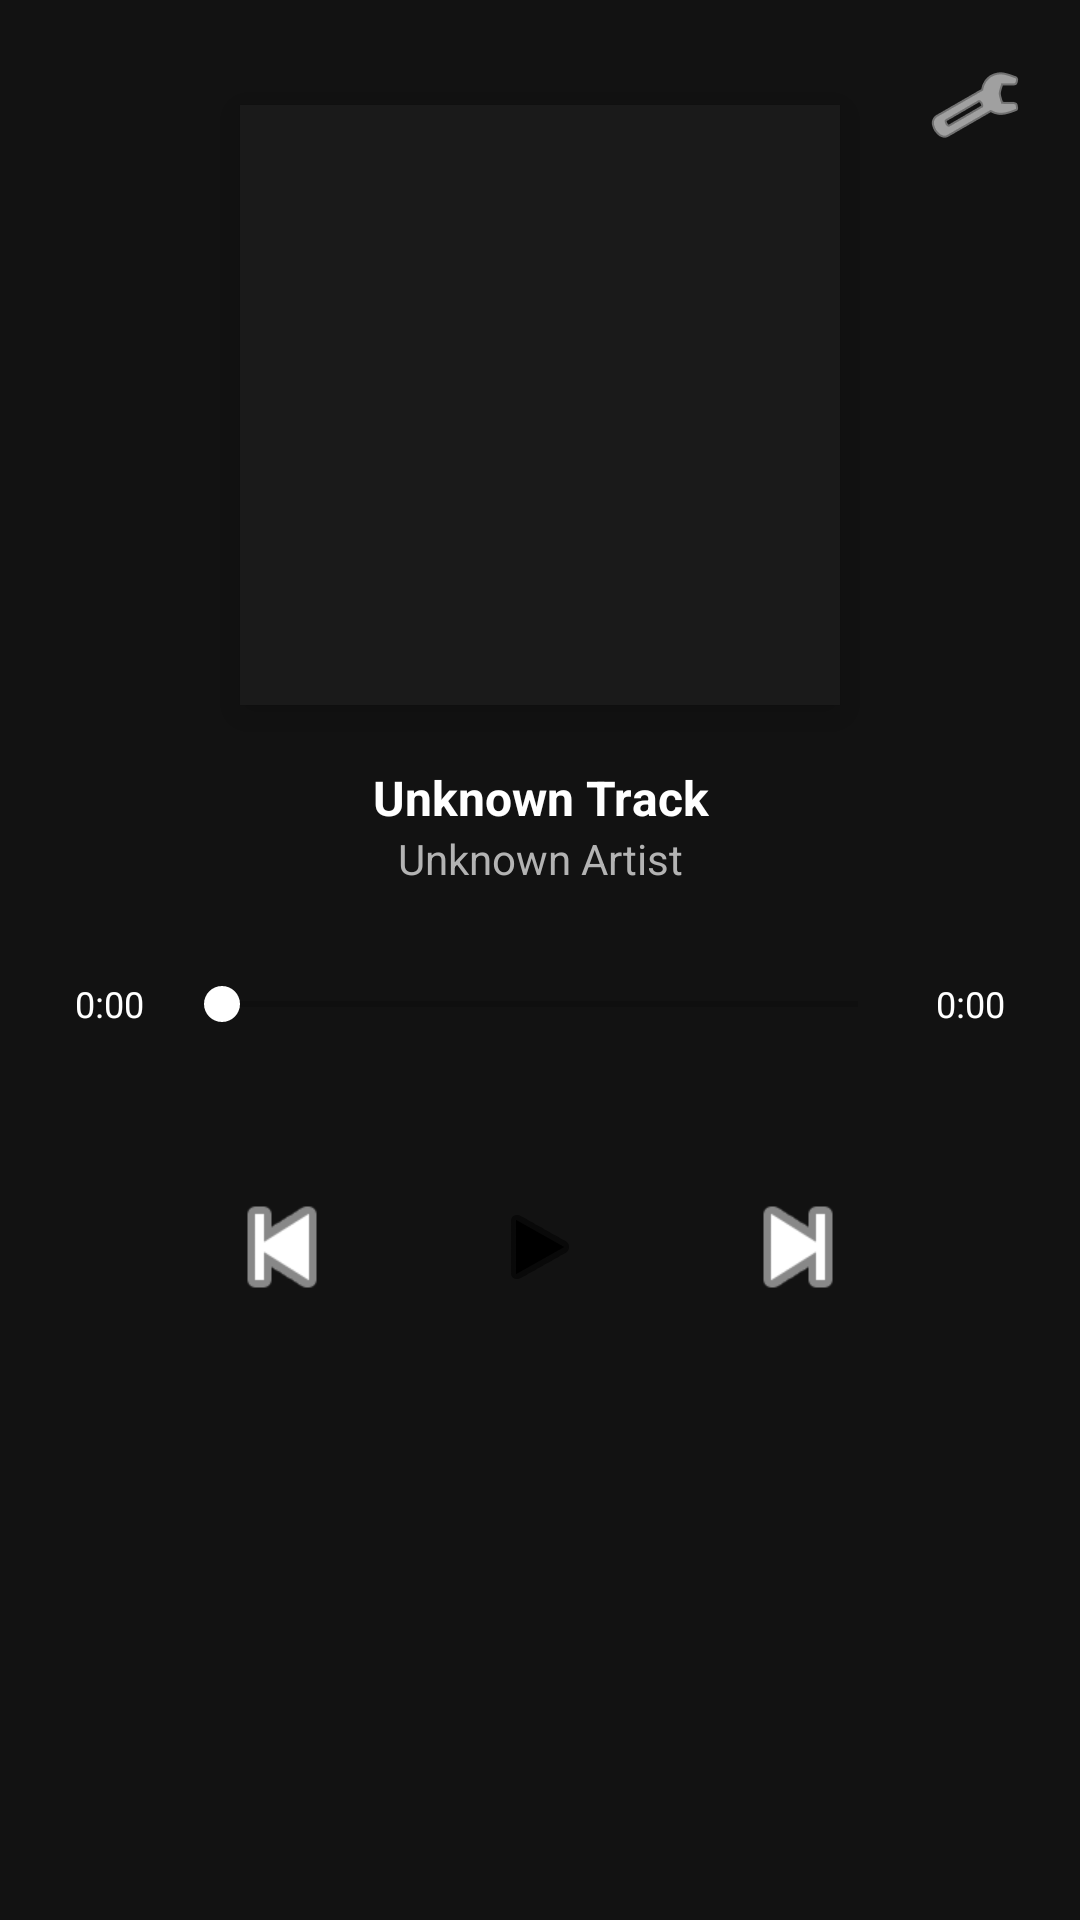

Screen size 1080px×1920px. Icon name, then its center in pixels as (x=x, y=y):
Next Track: (x=798, y=1247)
Previous Track: (x=282, y=1247)
Settings: (x=975, y=105)
